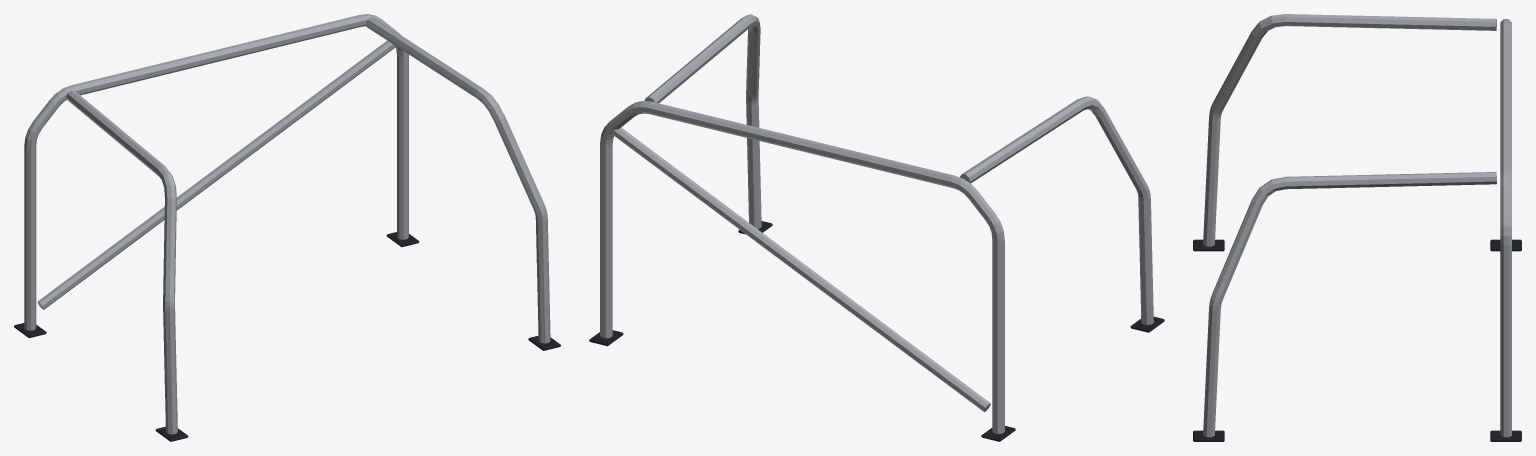
The model's file is apex_v8.glb.
3 views of the same model, side by side, from view 1: azimuth 30°, elevation 25°; view 2: azimuth 150°, elevation 25°; view 3: azimuth 270°, elevation 25° (orthographic). The views are drawn at different scales.
Parts seen in each view (by area): view 1: model; view 2: model; view 3: model.
Boxes of the visible parts, <box> form: model: <box>14,14,560,441</box>; model: <box>589,14,1164,441</box>; model: <box>1193,14,1521,441</box>.
Size of the model in its own units: 1.49 by 0.857 by 1.04.
Materials: 2 (1 with a texture image).
